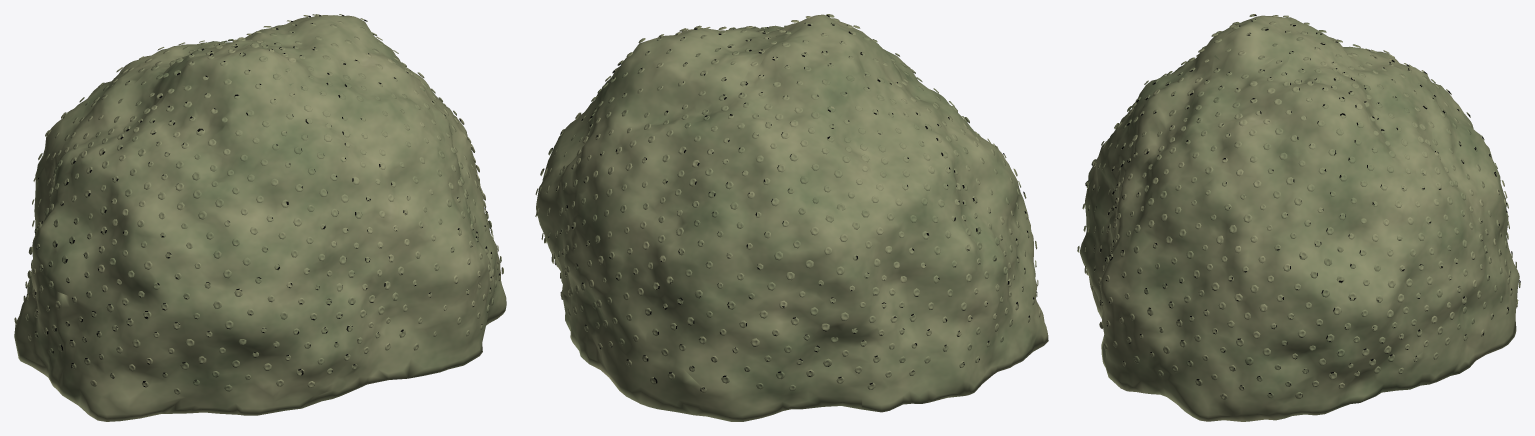
File: massive_coral_lod0.glb
3 views of the same model, side by side, from view 1: azimuth 30°, elevation 25°; view 2: azimuth 150°, elevation 25°; view 3: azimuth 270°, elevation 25° (orthographic). The views are drawn at different scales.
Parts seen in each view (by area): view 1: massive_coral_LOD0; view 2: massive_coral_LOD0; view 3: massive_coral_LOD0.
Part boxes in pixels (left/top/right/bottom): massive_coral_LOD0: left=14, top=14, right=506, bottom=421; massive_coral_LOD0: left=535, top=14, right=1048, bottom=421; massive_coral_LOD0: left=1077, top=14, right=1520, bottom=421.
Size of the model in its own units: 1.29 by 0.8403 by 1.15.
Materials: 1 (1 with a texture image).
